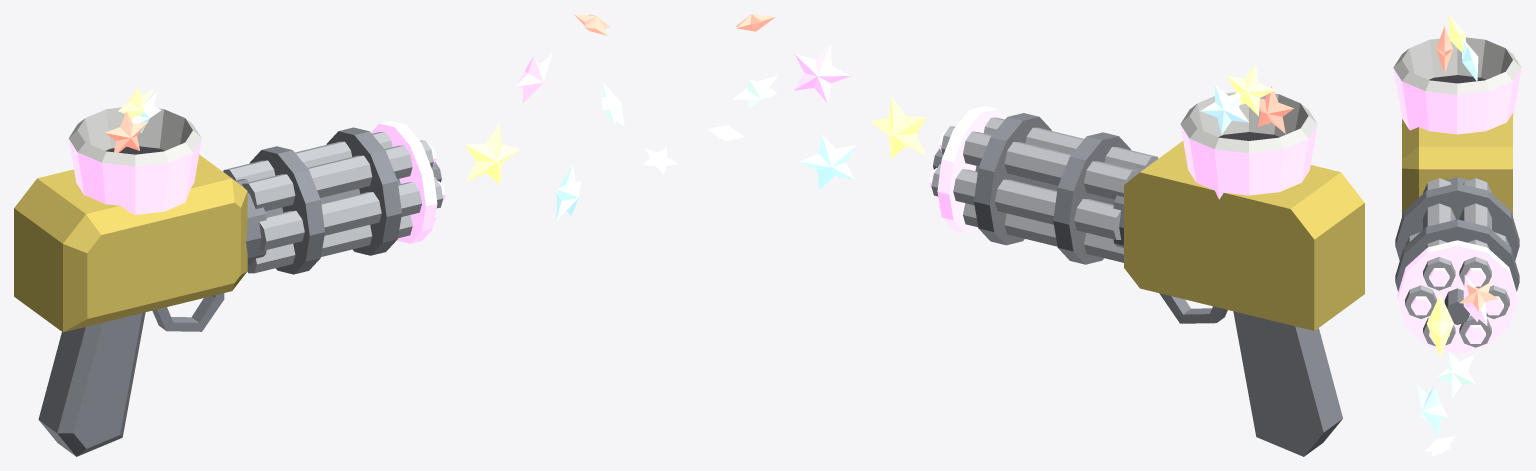
The model's file is item_starbits.glb.
3 renders of one model, left to right at view 1: azimuth 30°, elevation 25°; view 2: azimuth 150°, elevation 25°; view 3: azimuth 270°, elevation 25°, orthographic. The views are drawn at different scales.
Visible parts, largest first — view 1: item_starbits; view 2: item_starbits; view 3: item_starbits.
Part boxes in pixels (box(x1,y1,x2,y2)): item_starbits: box(14, 14, 678, 456); item_starbits: box(707, 14, 1364, 456); item_starbits: box(1393, 14, 1521, 456).
Size of the model in its own units: 1.62 by 0.8763 by 0.3.
